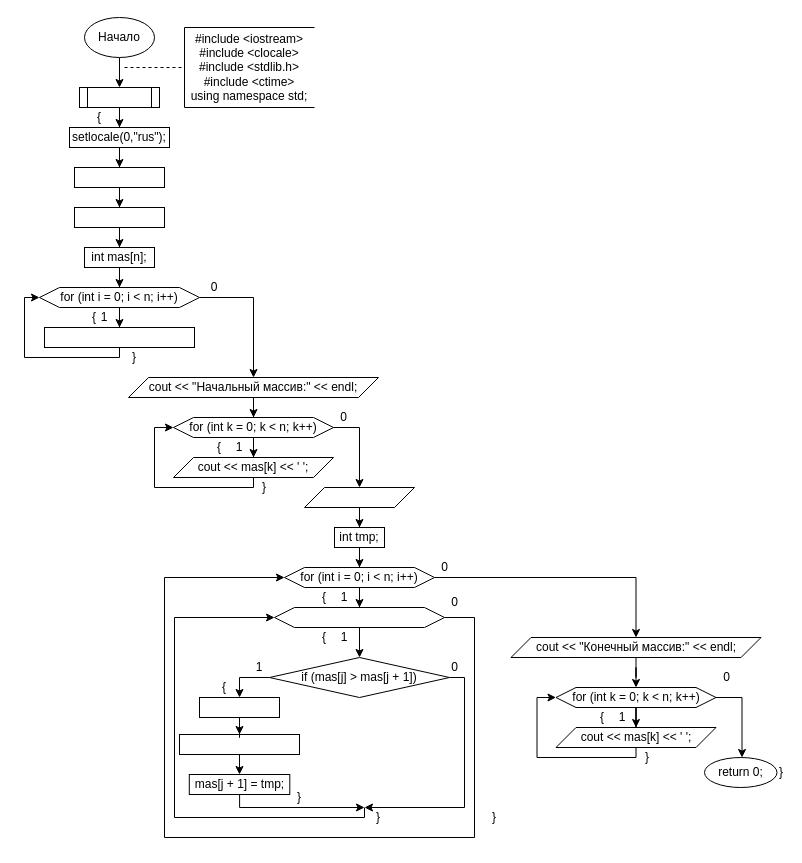
The diagram is 802 pixels wide and 863 high, and some of its shapes have lost their labels. Here are the shapes that lost their labels. From the top down, the centre of each, then its label:
At point (119, 97): "int main()".
At point (119, 177): "srand(time(0));".
At point (119, 217): "const int n = 10;".
At point (119, 337): "mas[i] = rand() % 100 - 50;".
At point (359, 497): "cout << '\n';".
At point (359, 617): "for (int j = 0; j < n - 1 - i; j++)".
At point (239, 707): "tmp = mas[j];".
At point (239, 744): "mas[j] = mas[j + 1];".
